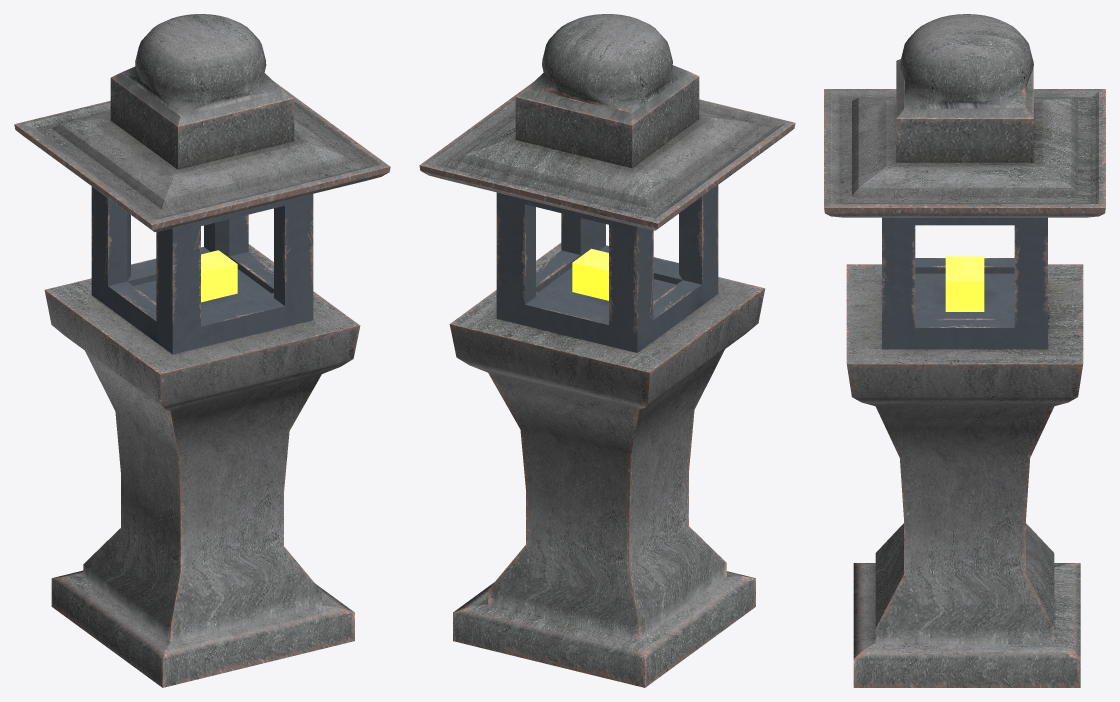
Rendered from old_japanese_lamp (1).glb.
The picture shows the model from 3 angles, left to right: view 1: azimuth 30°, elevation 25°; view 2: azimuth 150°, elevation 25°; view 3: azimuth 270°, elevation 25°; orthographic projection. The views are drawn at different scales.
Parts seen in each view (by area): view 1: lamp; view 2: lamp; view 3: lamp.
Boxes of the visible parts, x1,y1,x2,y2 form: lamp: [14, 14, 390, 687]; lamp: [419, 14, 795, 687]; lamp: [824, 14, 1105, 687].
Size of the model in its own units: 5.29 by 12.67 by 5.29.
1 material, 1 textured.
